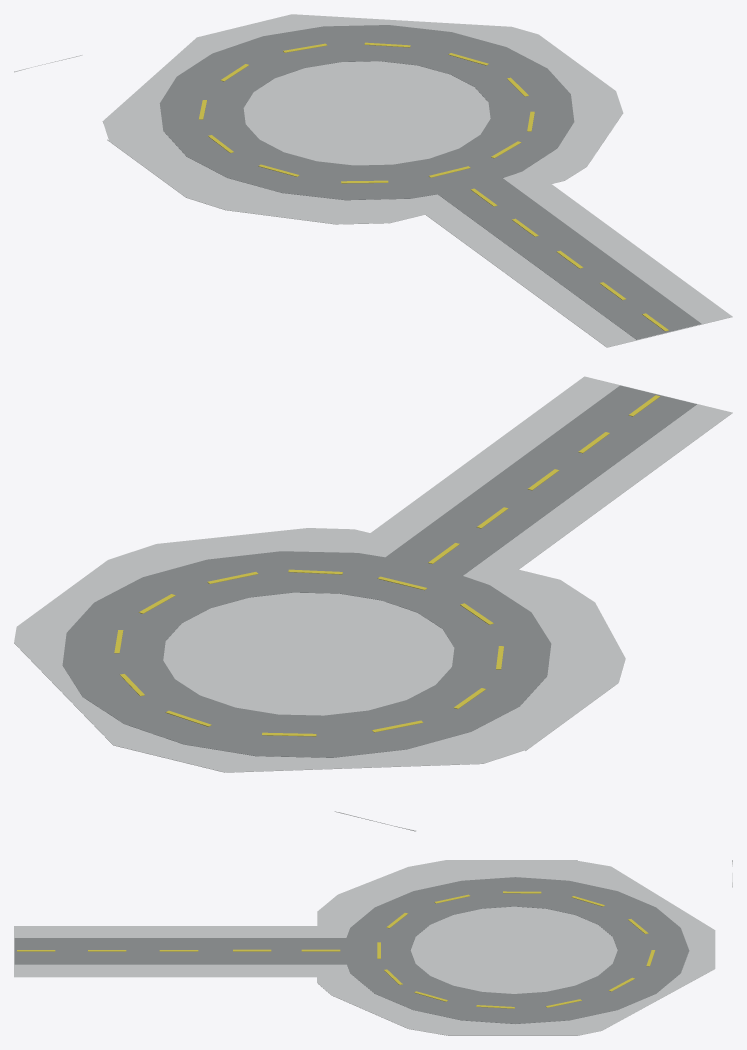
File: Street ma.glb
3 renders of one model, top to bottom at view 1: azimuth 30°, elevation 25°; view 2: azimuth 150°, elevation 25°; view 3: azimuth 270°, elevation 25°, orthographic. The views are drawn at different scales.
Visible parts, largest first — view 1: Mesh_Mesh_head_geo.001_lambert2SG.001; view 2: Mesh_Mesh_head_geo.001_lambert2SG.001; view 3: Mesh_Mesh_head_geo.001_lambert2SG.001.
Part boxes in pixels (x1,y1,x2,y2): Mesh_Mesh_head_geo.001_lambert2SG.001: (14,14,732,347); Mesh_Mesh_head_geo.001_lambert2SG.001: (14,376,732,831); Mesh_Mesh_head_geo.001_lambert2SG.001: (14,860,732,1035).
Size of the model in its own units: 562 by 1.2 by 972.
